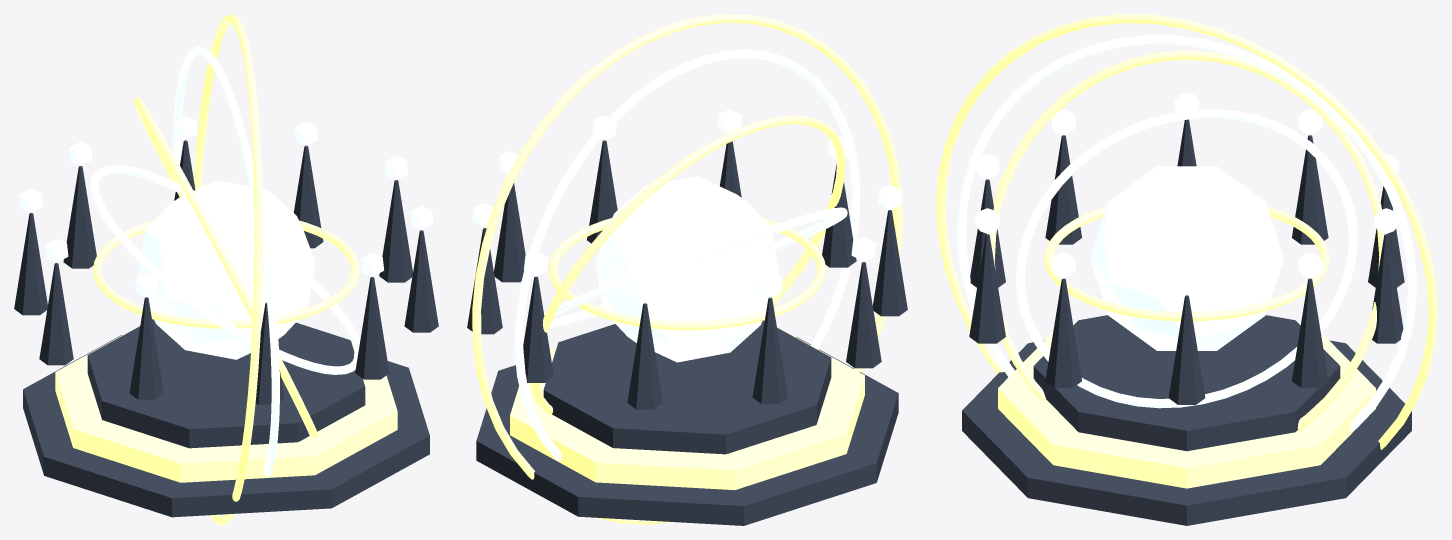
File: gpu-blender-v31.glb
The picture shows the model from 3 angles, left to right: view 1: azimuth 30°, elevation 25°; view 2: azimuth 150°, elevation 25°; view 3: azimuth 270°, elevation 25°; orthographic projection. The views are drawn at different scales.
Visible parts, largest first — view 1: Cylinder.002, Cylinder, SovereignCore_agent-voice-call, Cylinder.001, Torus.004, Torus.003, Torus.001, Torus, Torus.002, Cone.004, Cone.008, Cone.005 (+6 smaller); view 2: Cylinder.002, SovereignCore_agent-voice-call, Cylinder, Cylinder.001, Torus.004, Torus.003, Torus.002, Torus, Torus.001, Cone.005, Cone.003, Cone.006 (+7 smaller); view 3: SovereignCore_agent-voice-call, Cylinder.002, Cylinder, Cylinder.001, Torus.004, Torus.003, Torus.001, Torus.002, Torus, Cone, Cone.008, Cone.001 (+7 smaller).
Boxes of the visible parts, x1,y1,x2,y2 form: Cylinder.002: [87, 319, 365, 448]; Cylinder: [23, 335, 429, 517]; SovereignCore_agent-voice-call: [137, 180, 315, 359]; Cylinder.001: [55, 326, 397, 482]; Torus.004: [194, 14, 263, 525]; Torus.003: [173, 46, 279, 475]; Torus.001: [90, 165, 360, 374]; Torus: [93, 220, 359, 328]; Torus.002: [133, 97, 318, 437]; Cone.004: [14, 213, 47, 315]; Cone.008: [355, 277, 389, 379]; Cone.005: [39, 263, 73, 365]; Cylinder.002: [543, 320, 831, 454]; SovereignCore_agent-voice-call: [595, 176, 779, 362]; Cylinder: [476, 337, 898, 525]; Cylinder.001: [510, 328, 864, 490]; Torus.004: [472, 14, 902, 524]; Torus.003: [514, 49, 860, 461]; Torus.002: [530, 115, 845, 415]; Torus: [549, 218, 825, 330]; Torus.001: [544, 207, 847, 328]; Cone.005: [846, 262, 881, 368]; Cone.003: [627, 303, 662, 409]; Cone.006: [873, 210, 907, 316]; SovereignCore_agent-voice-call: [1090, 166, 1283, 350]; Cylinder.002: [1033, 315, 1340, 451]; Cylinder: [962, 340, 1411, 525]; Cylinder.001: [998, 332, 1375, 488]; Torus.004: [936, 14, 1437, 449]; Torus.003: [957, 35, 1416, 432]; Torus.001: [1016, 109, 1357, 408]; Torus.002: [988, 50, 1385, 431]; Torus: [1044, 206, 1329, 321]; Cone: [1168, 295, 1205, 404]; Cone.008: [969, 234, 1005, 343]; Cone.001: [1292, 278, 1328, 387].
Bounding box in the file's own units: 4.41 × 5.33 × 4.9.
